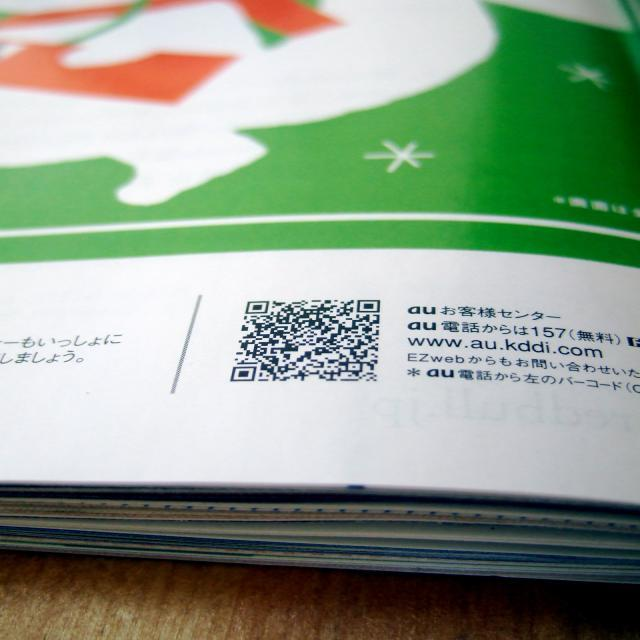qrcode: (231, 301, 380, 382)
